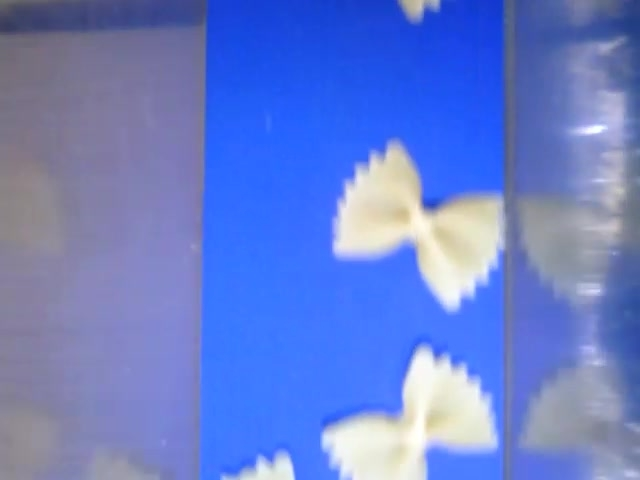farfalle: (331, 141, 505, 313), (322, 342, 497, 480)
